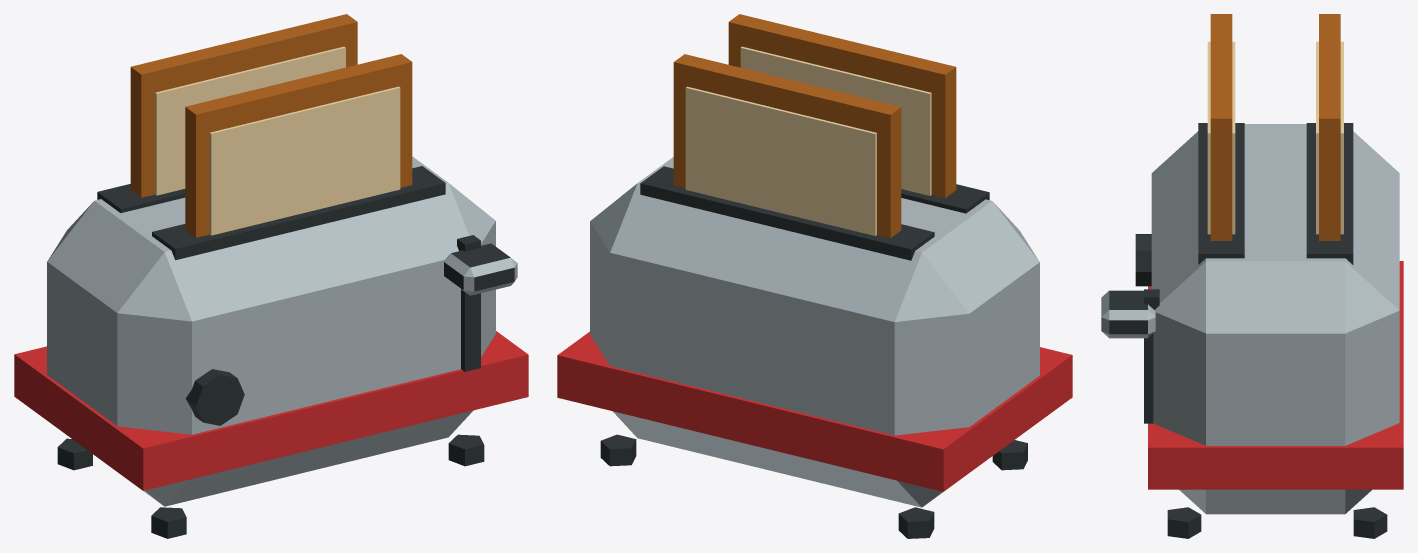
The model's file is toaster.glb.
3 renders of one model, left to right at view 1: azimuth 30°, elevation 25°; view 2: azimuth 150°, elevation 25°; view 3: azimuth 270°, elevation 25°, orthographic.
Visible parts, largest first — view 1: toaster-m; view 2: toaster-m; view 3: toaster-m.
Part boxes in pixels (bbox=[...]): toaster-m: bbox=[14, 14, 528, 538]; toaster-m: bbox=[557, 14, 1072, 538]; toaster-m: bbox=[1101, 14, 1403, 538].
Bounding box in the file's own units: 0.285 × 0.28 × 0.195.
